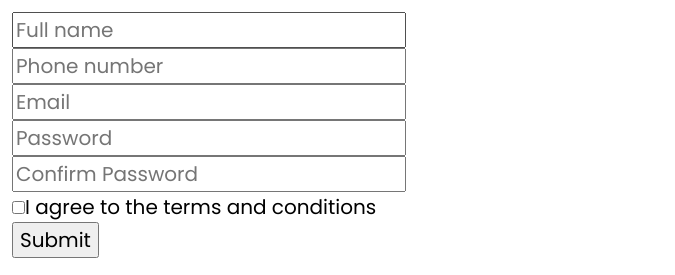
Matches DOM Snapshot › Does not allow mismatched passwords
This screenshot has width=675, height=275.
Type "John" into the field with placeholder "Full name".
click(209, 30); type("John")  # box [12, 12, 406, 48]
Type "0427410907" into the field with placeholder "Phone number".
click(209, 66); type("0427410907")  # box [12, 48, 406, 84]
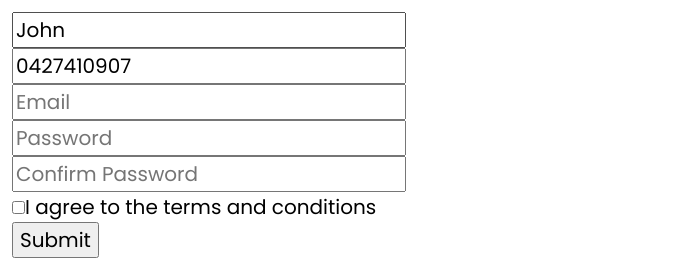
Type "test@email.com" into the field with placeholder "Email".
click(209, 102); type("test@email.com")  # box [12, 84, 406, 120]
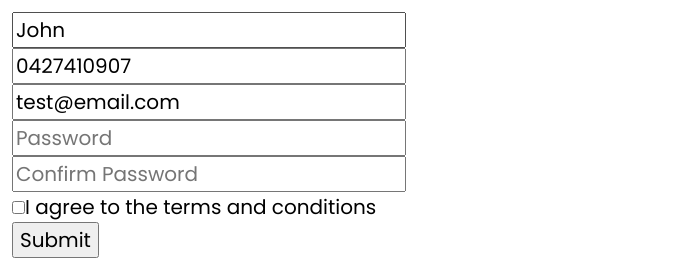
Type "123456" into the password field with placeholder "Password".
click(209, 138); type("123456")  # box [12, 120, 406, 156]
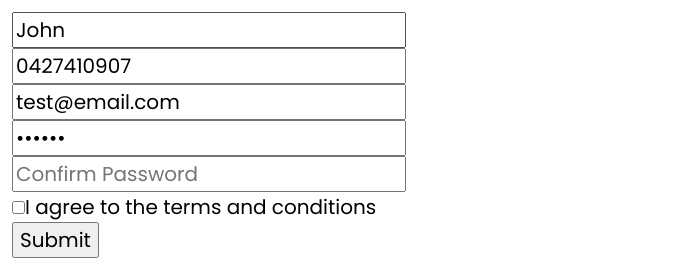
Type "1234567" into the password field with placeholder "Confirm Password".
click(209, 174); type("1234567")  # box [12, 156, 406, 192]
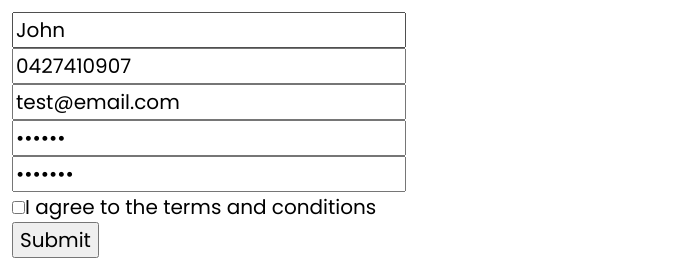
Click the checkbox.
click(18, 208)  # box [12, 201, 25, 214]
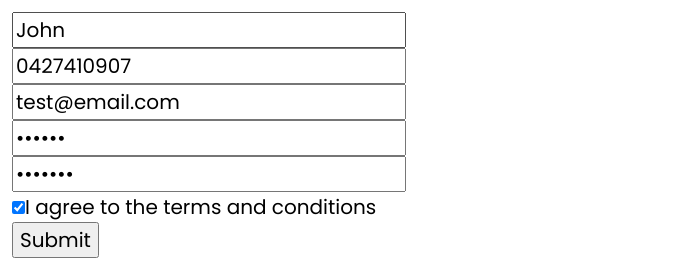
Click the button "Submit".
click(55, 240)  # box [12, 222, 99, 258]
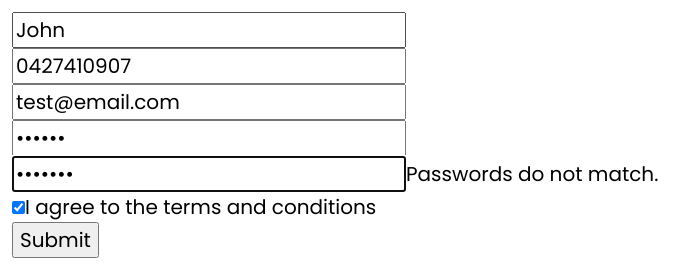
Now the text "Passwords do not match." is shown, box [406, 160, 658, 188]
